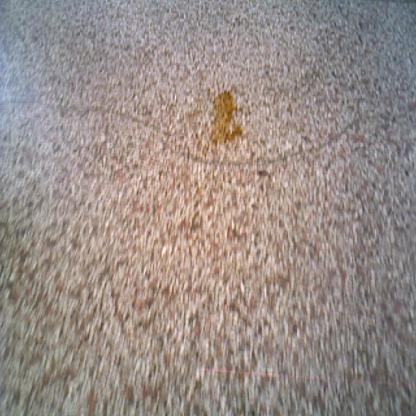liquid: (209, 88, 243, 145)
